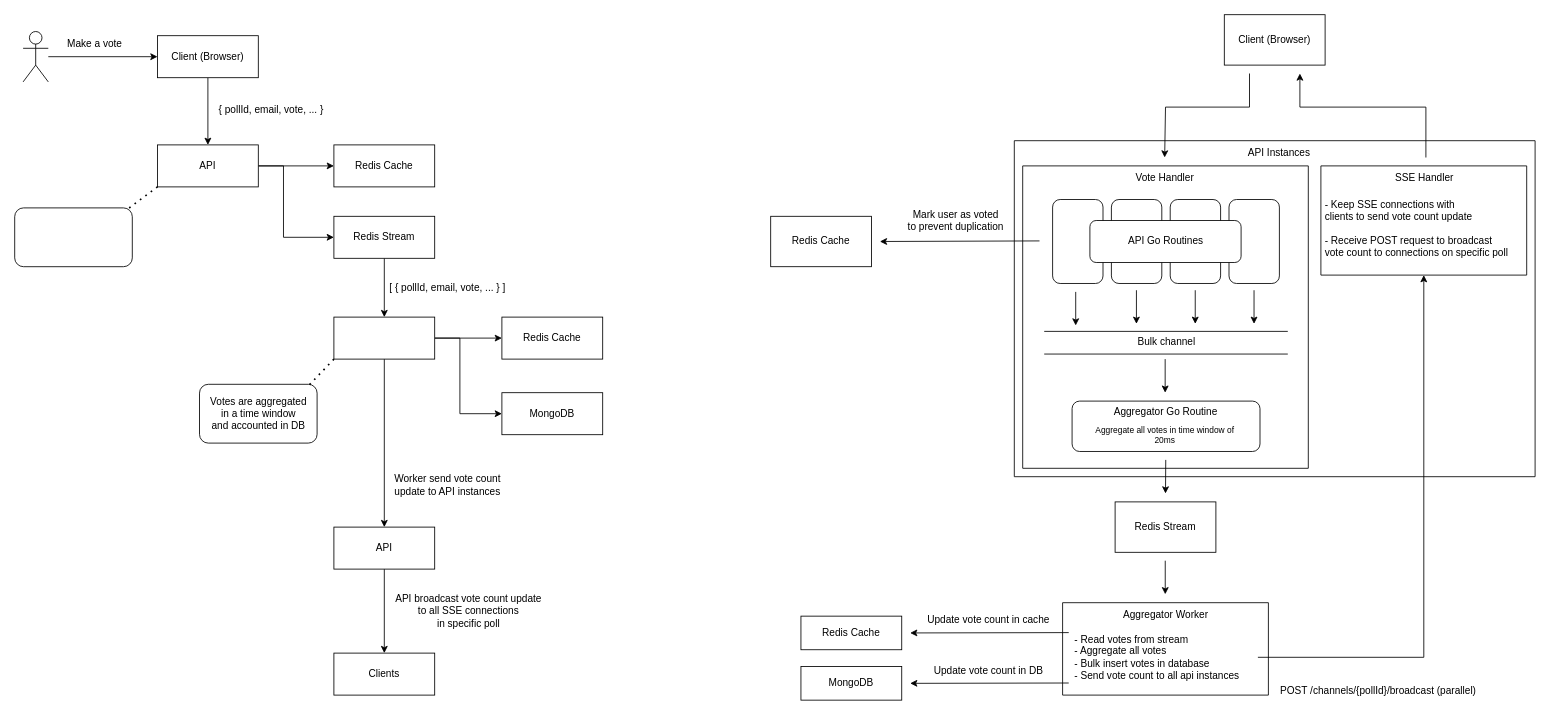
This 1550x718 diagram has some shape labels left out. The shapes that lost their labels are listed below. From the top down, each one's centre as x and y in pixels, then its label:
pixel 35 56: Actor
pixel 73 237: Votes are aggregated in a time window and sent in bulk
pixel 384 337: Aggregation Worker
